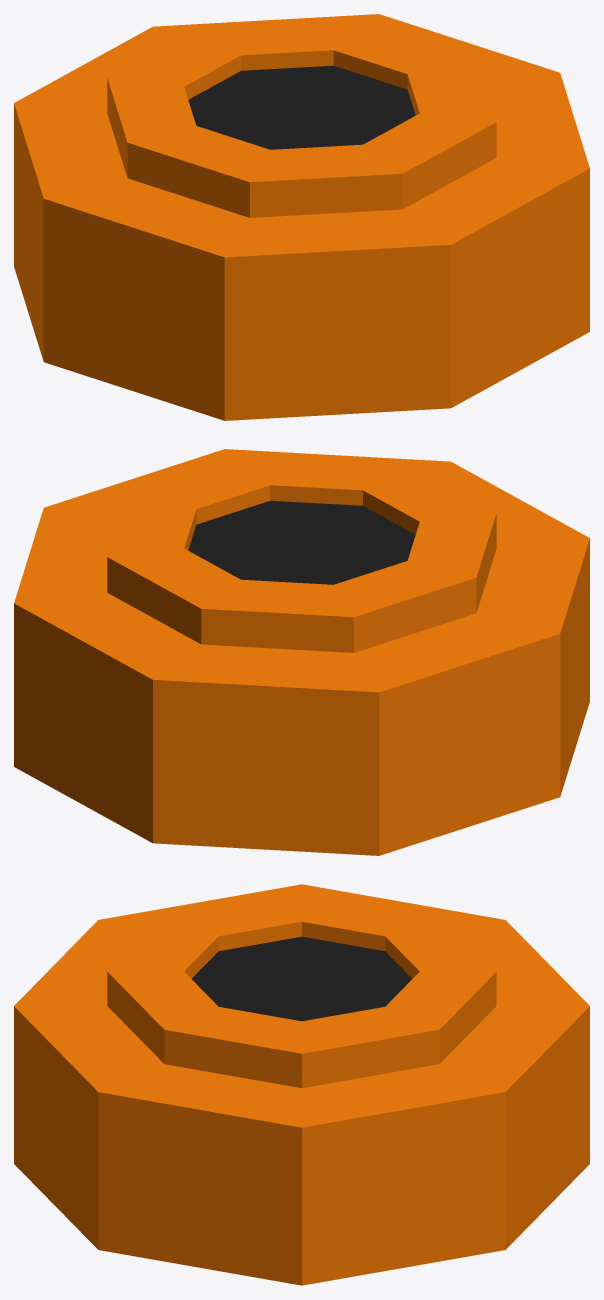
File: Prop_Industrial_Robotic_Arm_Joint_01.FBX
3 views of the same model, one above another, from view 1: azimuth 30°, elevation 25°; view 2: azimuth 150°, elevation 25°; view 3: azimuth 270°, elevation 25° (orthographic). The views are drawn at different scales.
Parts seen in each view (by area): view 1: Prop_Industrial_Robotic_Arm_Joint_01; view 2: Prop_Industrial_Robotic_Arm_Joint_01; view 3: Prop_Industrial_Robotic_Arm_Joint_01.
Part boxes in pixels (x1=…): Prop_Industrial_Robotic_Arm_Joint_01: x1=14, y1=14, x2=589, y2=420; Prop_Industrial_Robotic_Arm_Joint_01: x1=14, y1=449, x2=589, y2=855; Prop_Industrial_Robotic_Arm_Joint_01: x1=14, y1=884, x2=589, y2=1285.
Bounding box in the file's own units: 937 × 345 × 937.
